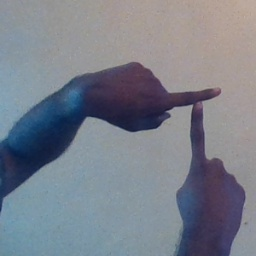T: (149, 73, 241, 180)
